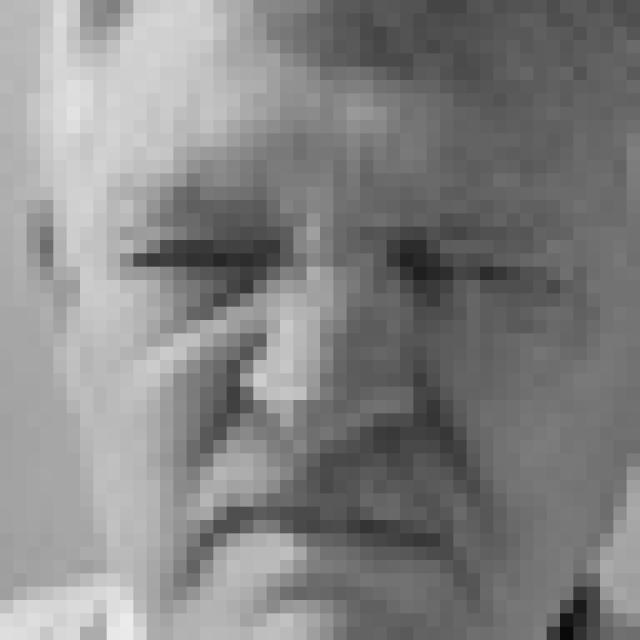disgust: (105, 177, 554, 601)
